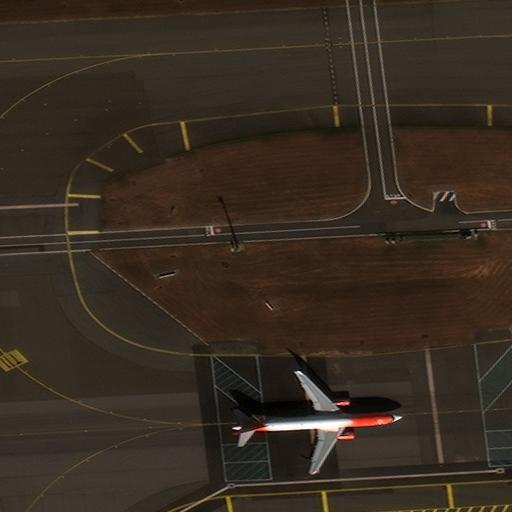Medium Civil Transport: (232, 371, 402, 473)
